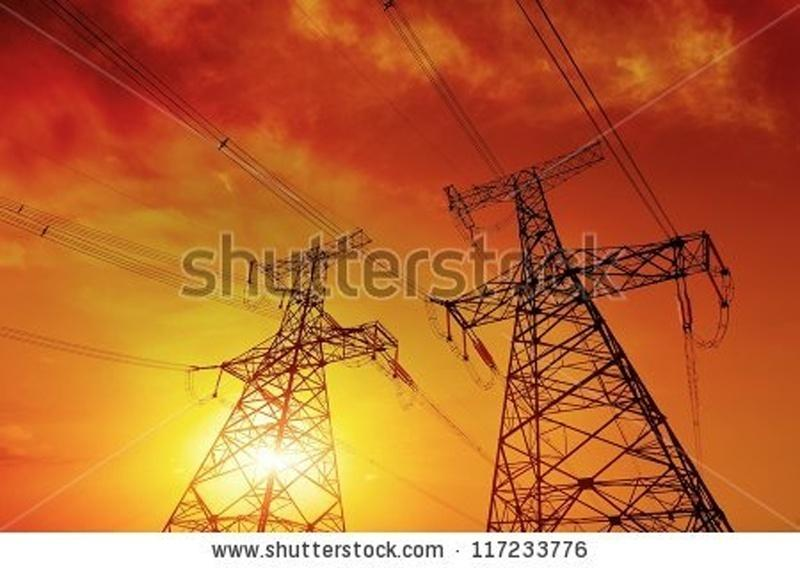power_tower: (437, 160, 728, 532), (196, 241, 368, 529)
